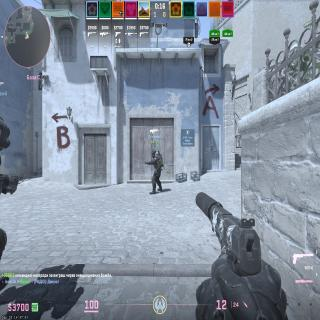CT-Body: (0, 115, 19, 288), (147, 148, 164, 194)
CT-Head: (0, 115, 11, 149), (152, 149, 156, 158)
